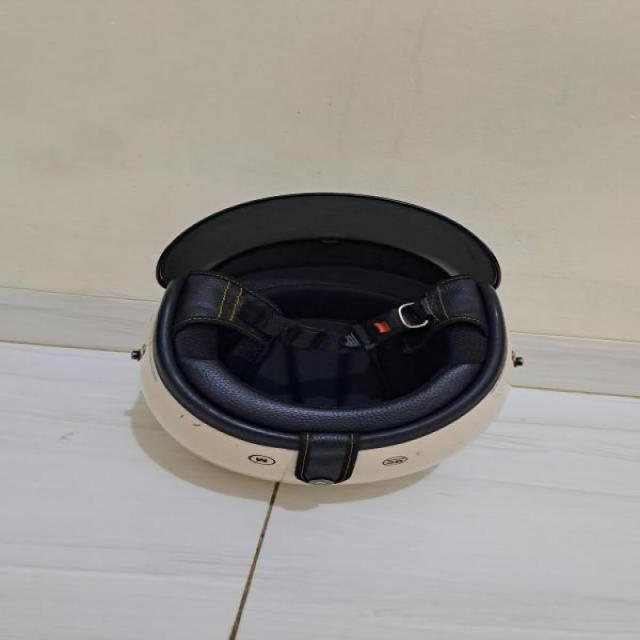Helmet: (146, 159, 524, 492)
